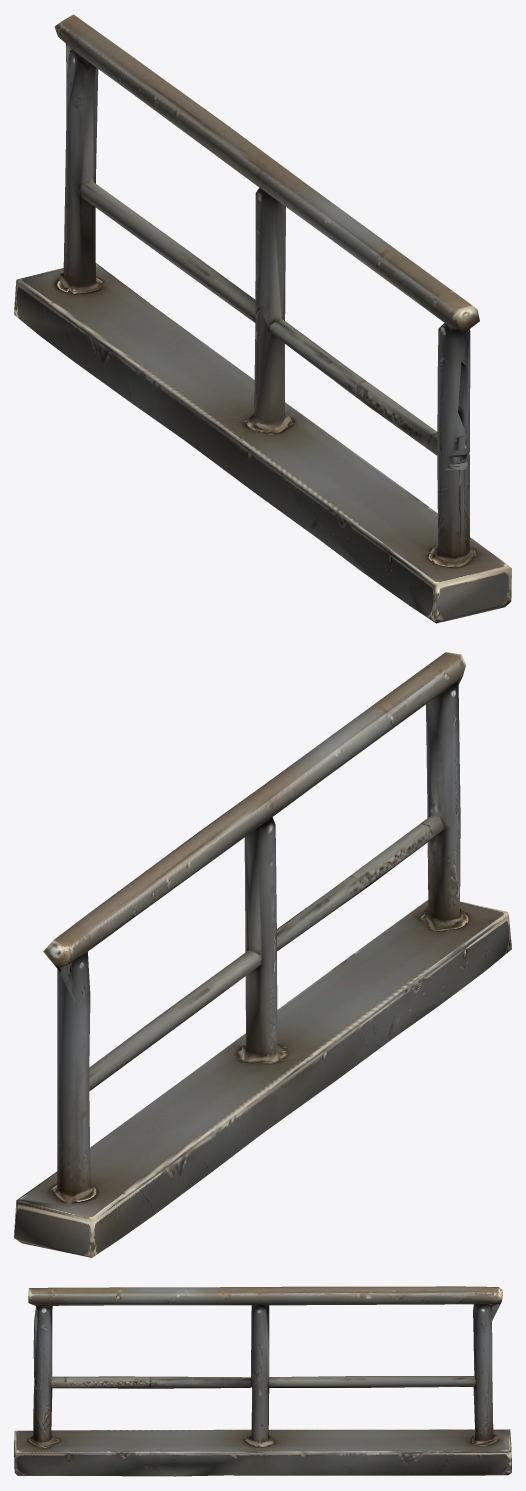
The model's file is tripo_convert_a79794e4-5ad5-44f0-92ad-74de16f4c3fa.fbx.
The picture shows the model from 3 angles, top to bottom: view 1: azimuth 30°, elevation 25°; view 2: azimuth 150°, elevation 25°; view 3: azimuth 270°, elevation 25°; orthographic projection. The views are drawn at different scales.
Visible parts, largest first — view 1: tripo_node_a79794e4; view 2: tripo_node_a79794e4; view 3: tripo_node_a79794e4.
Boxes of the visible parts, x1=… form: tripo_node_a79794e4: x1=14, y1=14, x2=511, y2=623; tripo_node_a79794e4: x1=14, y1=652, x2=511, y2=1257; tripo_node_a79794e4: x1=14, y1=1286, x2=511, y2=1476.
Bounding box in the file's own units: 0.11 × 0.3981 × 0.9995.
1 material, 1 textured.
